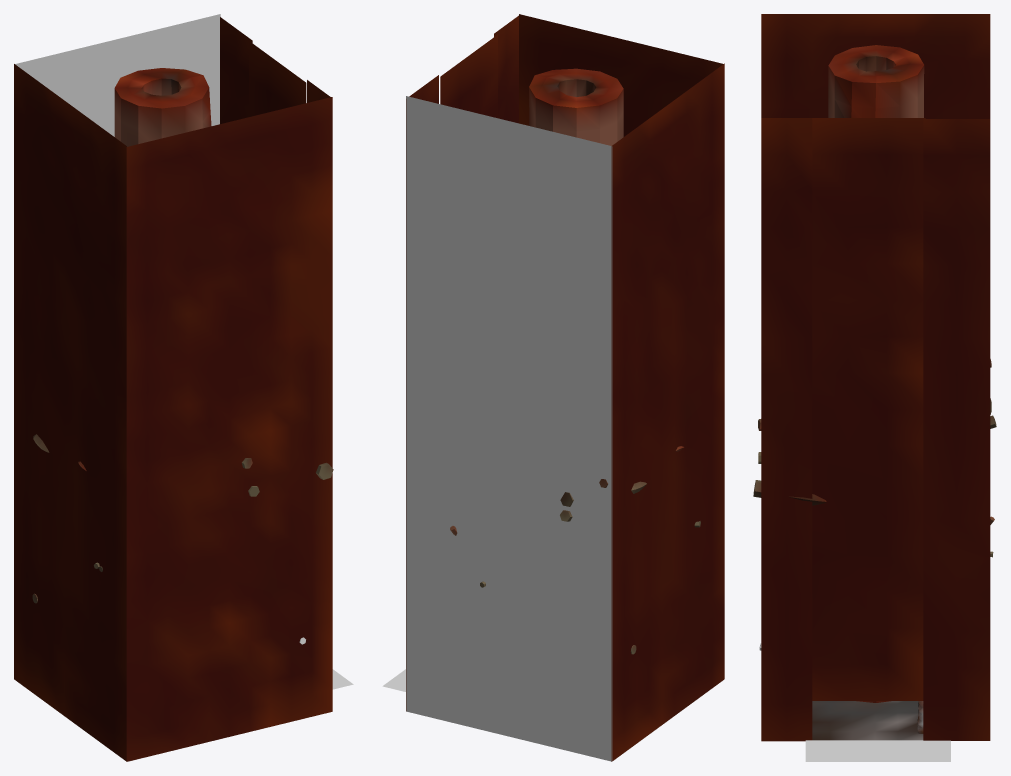
File: Générateur(4).fbx
3 views of the same model, side by side, from view 1: azimuth 30°, elevation 25°; view 2: azimuth 150°, elevation 25°; view 3: azimuth 270°, elevation 25° (orthographic).
Visible parts, largest first — view 1: Plan 5, Plan 2, Plan 4, Cylindre, Plan 8, Plan 7, Tube; view 2: Plan 4, Plan 2, Plan 5, Cylindre, Plan 8, Plan 6, Plan 7, Tube; view 3: Plan 8, Plan 7, Plan 6, Plan 2, Cylindre, Plan 1, Plan, Tube.
Boxes of the visible parts, <box> form: Plan 5: <box>126,97,332,761</box>; Plan 2: <box>14,64,126,761</box>; Plan 4: <box>15,14,220,136</box>; Cylindre: <box>114,68,211,146</box>; Plan 8: <box>249,41,306,116</box>; Plan 7: <box>220,17,252,123</box>; Tube: <box>32,434,333,603</box>; Plan 4: <box>406,96,612,761</box>; Plan 2: <box>611,63,724,761</box>; Plan 5: <box>519,14,723,136</box>; Cylindre: <box>529,68,623,145</box>; Plan 8: <box>440,34,497,118</box>; Plan 6: <box>494,15,518,123</box>; Plan 7: <box>406,75,438,710</box>; Tube: <box>450,446,700,654</box>; Plan 8: <box>812,118,925,700</box>; Plan 7: <box>923,119,990,740</box>; Plan 6: <box>761,118,812,741</box>; Plan 2: <box>761,14,990,118</box>; Cylindre: <box>828,45,924,702</box>; Plan 1: <box>812,701,923,740</box>; Plan: <box>805,740,950,761</box>; Tube: <box>753,359,996,557</box>.
Bounding box in the file's own units: 17.55 × 41.1 × 14.39.
